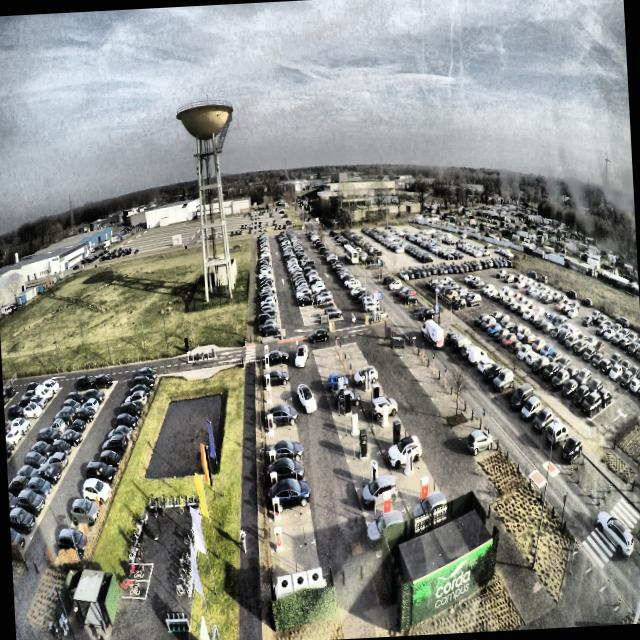cabinet: (277, 567, 324, 592)
car: (269, 477, 311, 516), (268, 457, 305, 484), (266, 403, 299, 429), (268, 439, 304, 462), (296, 381, 319, 416), (263, 369, 291, 388), (266, 350, 291, 367), (293, 344, 309, 369)
parking: (270, 511, 315, 551), (272, 542, 319, 580), (268, 485, 309, 520), (267, 464, 306, 494), (266, 446, 303, 472), (266, 427, 300, 452), (265, 412, 297, 433), (264, 398, 294, 417), (264, 386, 292, 403), (264, 376, 290, 390), (263, 366, 289, 379), (263, 355, 287, 369)
supercharger: (274, 527, 283, 550), (272, 497, 281, 520), (270, 472, 278, 492), (269, 450, 277, 466), (268, 432, 275, 447), (268, 415, 274, 432), (267, 400, 273, 415), (266, 386, 272, 400), (266, 375, 271, 386), (265, 354, 270, 365), (265, 364, 270, 374), (264, 345, 269, 355)
